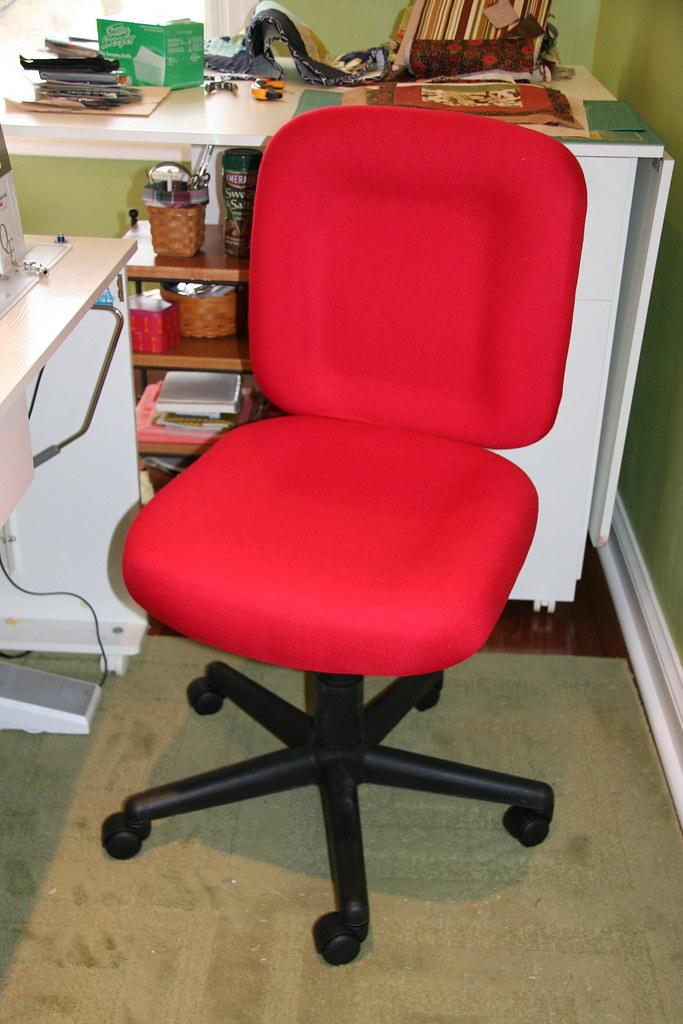chair: (102, 104, 589, 966)
